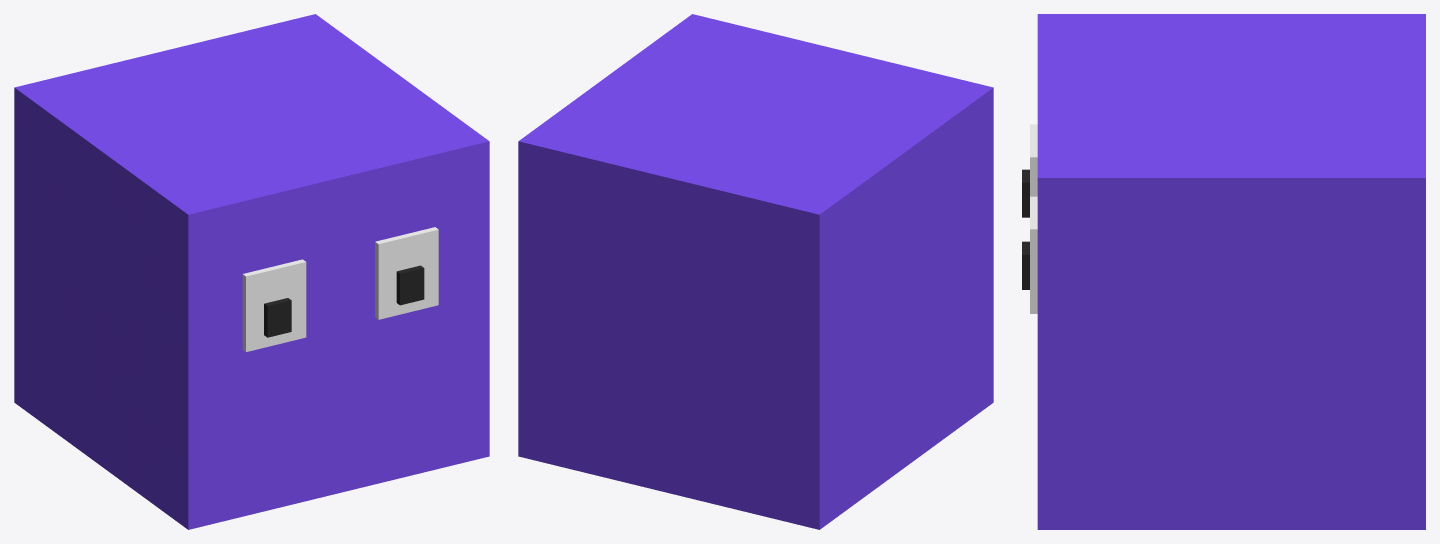
File: lingo-2025.glb
3 renders of one model, left to right at view 1: azimuth 30°, elevation 25°; view 2: azimuth 150°, elevation 25°; view 3: azimuth 270°, elevation 25°, orthographic. The views are drawn at different scales.
Visible parts, largest first — view 1: Decka; view 2: Decka; view 3: Decka.
Boxes of the visible parts, x1,y1,x2,y2 form: Decka: (14,14,489,529); Decka: (518,14,993,529); Decka: (1022,14,1425,529).
Bounding box in the file's own units: 1 × 1 × 1.04.
